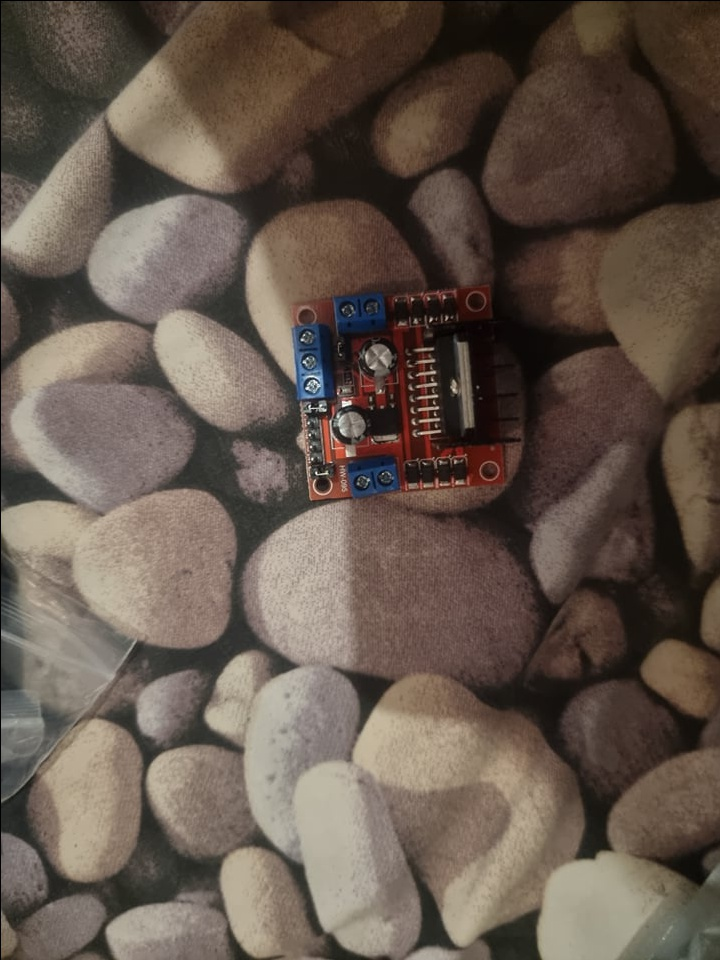MOTOR: (289, 277, 507, 500)
